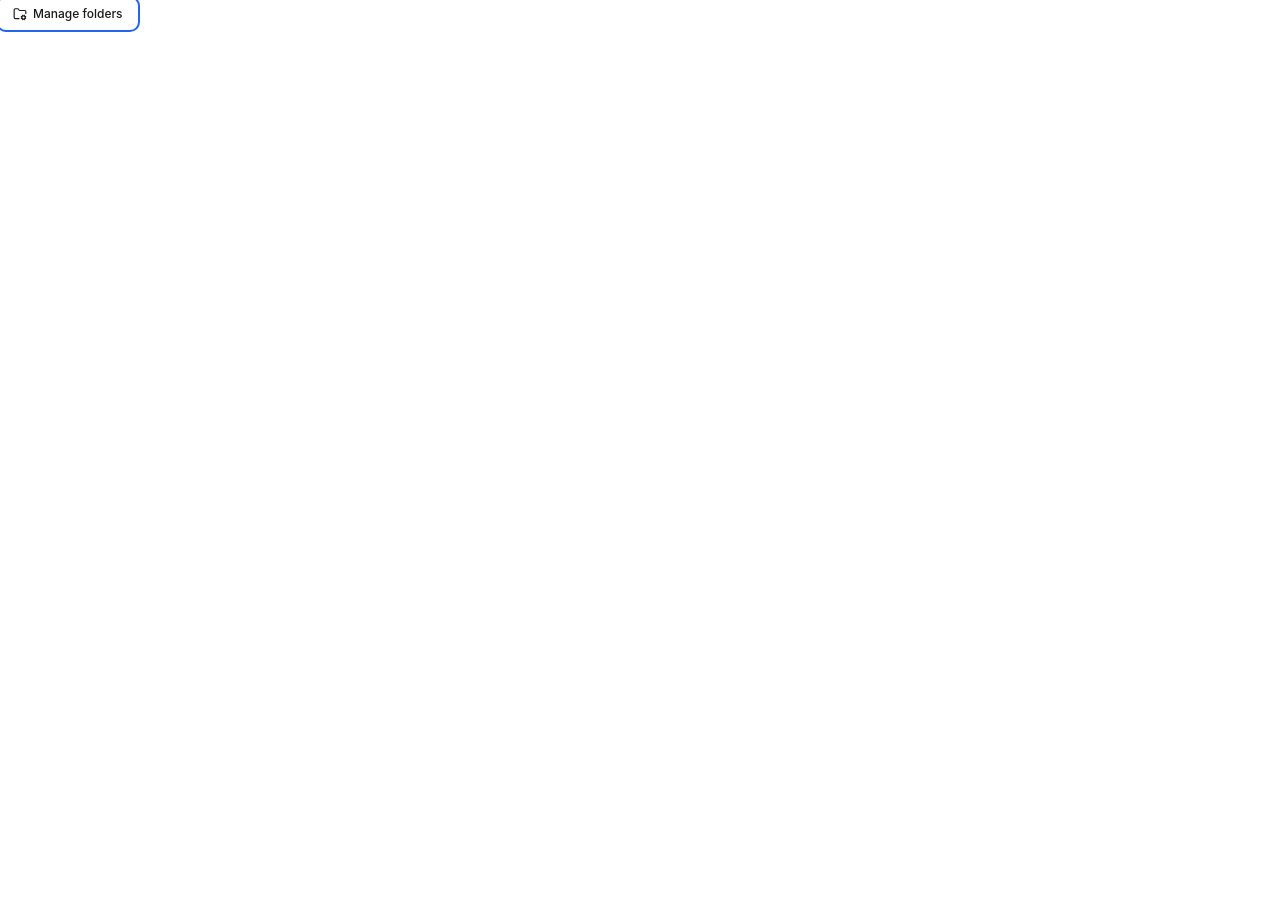
folder management › restores keyboard focus when Escape closes the modal
Click the button "Manage folders" at (68, 14), box [0,0,136,28]
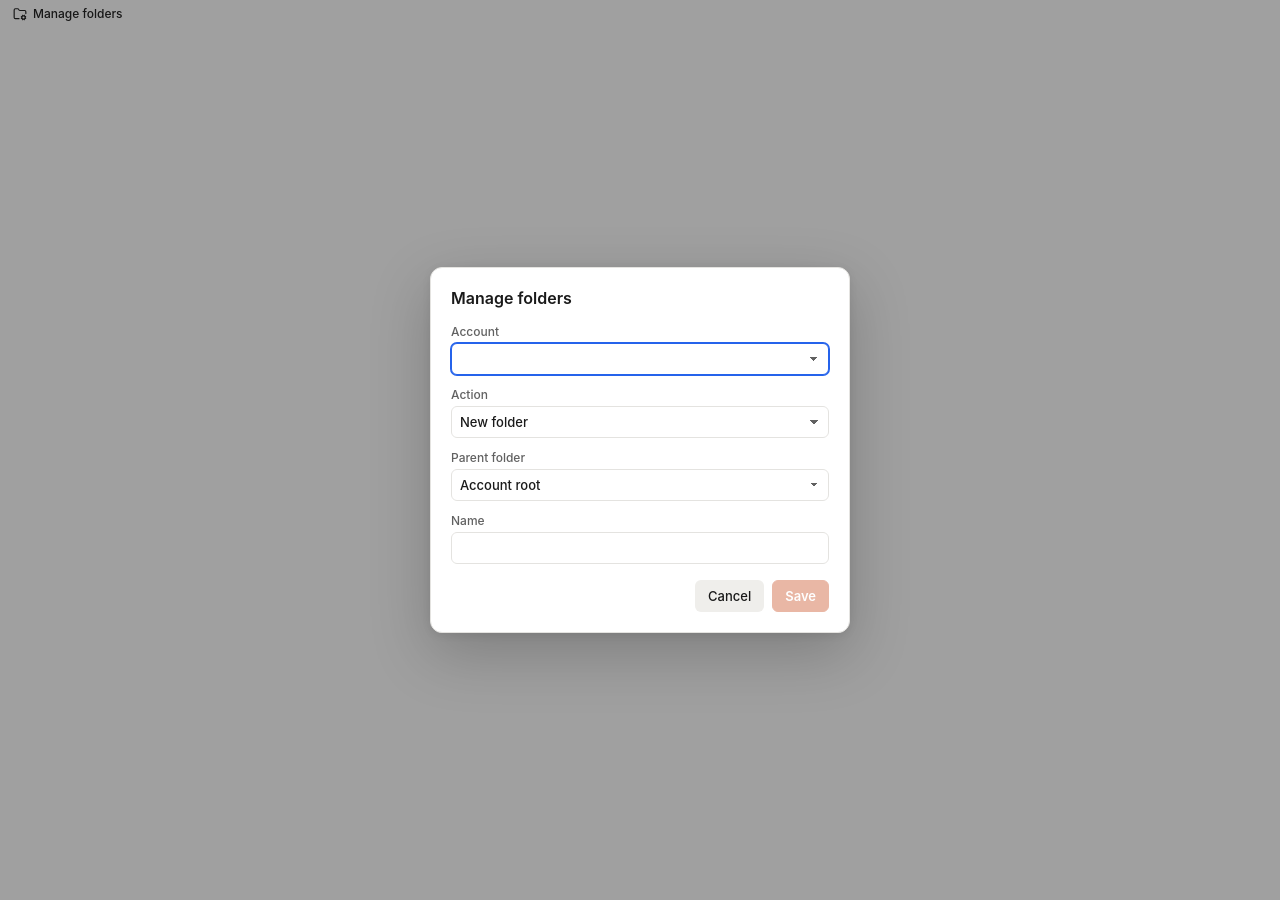
Press Escape
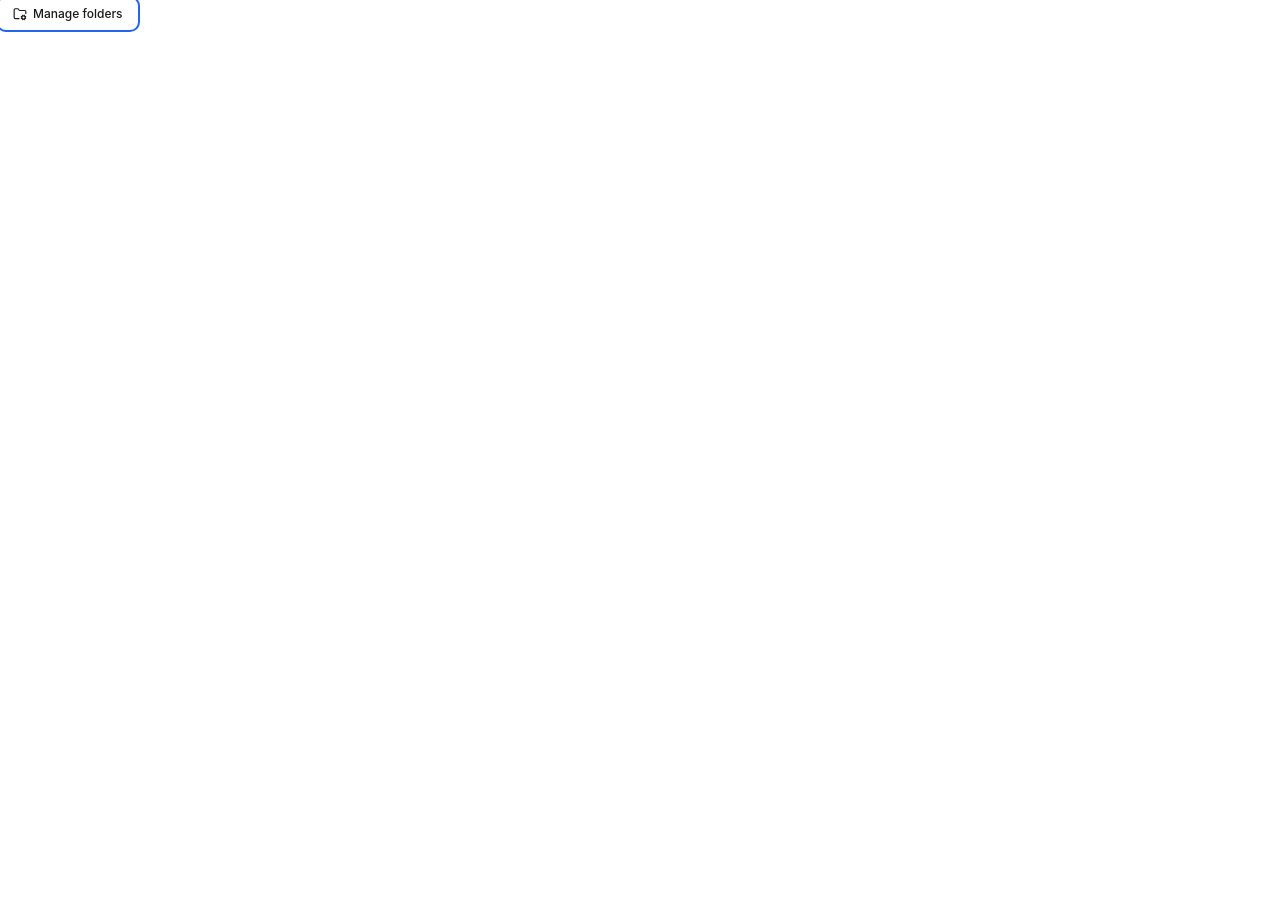
Check: the dialog is gone
